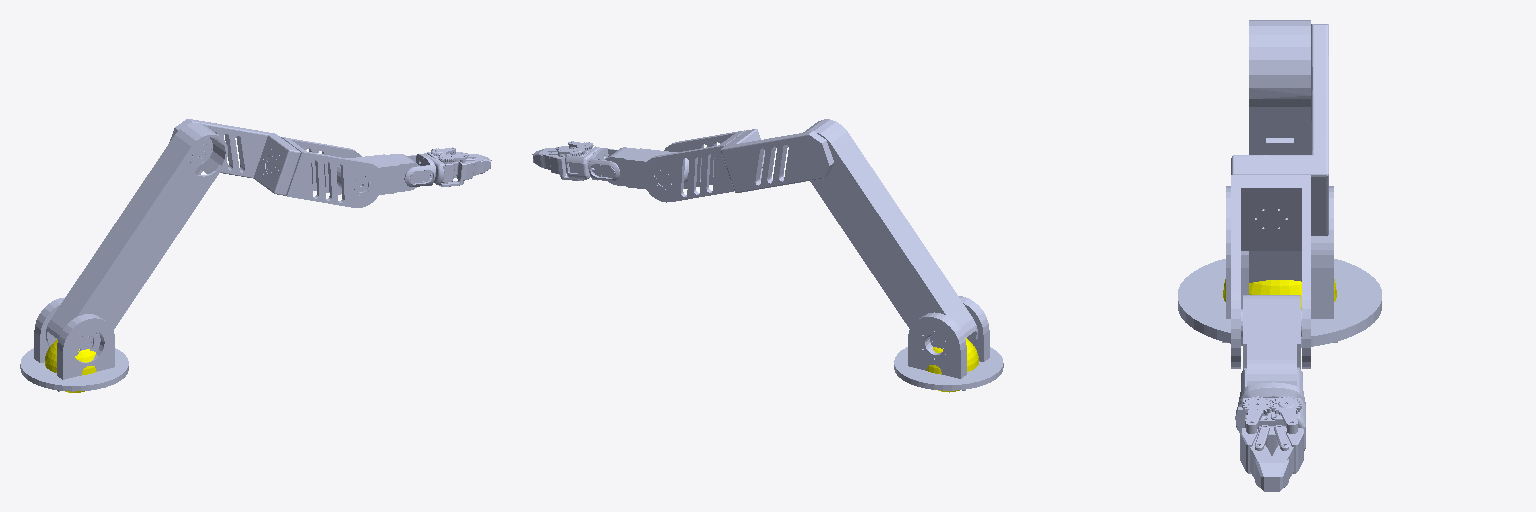
The robot description file, URDF, robot "arm2.SLDASM":
<robot name="arm2.SLDASM">
  <link name="ground">
    <inertial>
      <origin xyz="2.139E-05 0.0017648 0.02168" rpy="0 0 0" />
      <mass value="0" />
      <inertia ixx="0" ixy="0" ixz="0" iyy="0" iyz="0" izz="0" />
    </inertial>
    <visual>
      <origin xyz="0 0 0" rpy="0 0 0" />
    </visual>
  </link>
  <link name="base_link">
    <inertial>
      <origin xyz="2.139E-05 0.0017648 0.02168" rpy="0 0 0" />
      <mass value="0.53613" />
      <inertia ixx="0.0015219" ixy="2.0239E-08" ixz="4.0918E-07" iyy="0.0013521" iyz="-2.6796E-05" izz="0.0017242" />
    </inertial>
    <visual>
      <origin xyz="0 0 0" rpy="0 0 0" />
      <geometry>
        <mesh filename="base_link.stl" />
      </geometry>
      <material name="">
        <color rgba="0.79216 0.81961 0.93333 1" />
      </material>
    </visual>
    <collision>
      <origin xyz="0 0 0" rpy="0 0 0" />
      <geometry>
        <mesh filename="base_link.stl" />
      </geometry>
    </collision>
  </link>
  <joint name="joint5" type="revolute">
    <origin xyz="0 0 0" rpy="0 0 0" />
    <parent link="ground" />
    <child link="base_link" />
    <axis xyz="0 0 1" />
    <limit lower="-4.26" upper="4.26" effort="0" velocity="12.56" />
  </joint>
  <link name="arm_link1">
    <inertial>
      <origin xyz="0.1773 -0.00039417 0.048666" rpy="0 0 0" />
      <mass value="0.5946" />
      <inertia ixx="0.00069027" ixy="3.3446E-05" ixz="-0.00014462" iyy="0.010726" iyz="-2.7335E-07" izz="0.010908" />
    </inertial>
    <visual>
      <origin xyz="0 0 0" rpy="0 0 0" />
      <geometry>
        <mesh filename="arm_link1.stl" />
      </geometry>
      <material name="">
        <color rgba="0.79216 0.81961 0.93333 1" />
      </material>
    </visual>
    <collision>
      <origin xyz="0 0 0" rpy="0 0 0" />
      <geometry>
        <mesh filename="arm_link1.stl" />
      </geometry>
    </collision>
  </link>
  <joint name="joint0" type="revolute">
    <origin xyz="0 -0.0475 0.05" rpy="-1.5708 -0.87031 0" />
    <parent link="base_link" />
    <child link="arm_link1" />
    <axis xyz="0 0 1" />
    <limit lower="-4.26" upper="4.26" effort="0" velocity="12.56" />
  </joint>
  <link name="arm_link2">
    <inertial>
      <origin xyz="0.093606 -0.00013859 -0.0074875" rpy="0 0 0" />
      <mass value="0.34589" />
      <inertia ixx="0.00038206" ixy="4.4132E-06" ixz="0.00026239" iyy="0.0017256" iyz="7.3042E-07" izz="0.0017199" />
    </inertial>
    <visual>
      <origin xyz="0 0 0" rpy="0 0 0" />
      <geometry>
        <mesh filename="arm_link2.stl" />
      </geometry>
      <material name="">
        <color rgba="0.79216 0.81961 0.93333 1" />
      </material>
    </visual>
    <collision>
      <origin xyz="0 0 0" rpy="0 0 0" />
      <geometry>
        <mesh filename="arm_link2.stl" />
      </geometry>
    </collision>
  </link>
  <joint name="joint1" type="revolute">
    <origin xyz="0.37 0 0.075" rpy="0 0 1.2473" />
    <parent link="arm_link1" />
    <child link="arm_link2" />
    <axis xyz="0 0 1" />
    <limit lower="-2.36" upper="2.36" effort="0" velocity="12.56" />
  </joint>
  <link name="wrist1">
    <inertial>
      <origin xyz="3.4694E-17 -0.00038502 0.043333" rpy="0 0 0" />
      <mass value="0.25858" />
      <inertia ixx="0.0010491" ixy="-3.8964E-19" ixz="-3.3881E-20" iyy="0.0010979" iyz="7.1638E-06" izz="0.00031674" />
    </inertial>
    <visual>
      <origin xyz="0 0 0" rpy="0 0 0" />
      <geometry>
        <mesh filename="wrist1.stl" />
      </geometry>
      <material name="">
        <color rgba="0.79216 0.81961 0.93333 1" />
      </material>
    </visual>
    <collision>
      <origin xyz="0 0 0" rpy="0 0 0" />
      <geometry>
        <mesh filename="wrist1.stl" />
      </geometry>
    </collision>
  </link>
  <joint name="joint2" type="revolute">
    <origin xyz="0.185 0 -0.035" rpy="0 1.5708 0" />
    <parent link="arm_link2" />
    <child link="wrist1" />
    <axis xyz="0 0 1" />
    <limit lower="-3.14" upper="3.14" effort="0" velocity="12.56" />
  </joint>
  <link name="hand_link">
    <inertial>
      <origin xyz="0.047132 1.3323E-15 -0.024979" rpy="0 0 0" />
      <mass value="0.34435" />
      <inertia ixx="0.00013834" ixy="-2.3717E-20" ixz="3.3466E-07" iyy="0.00063583" iyz="-1.3553E-20" izz="0.00062808" />
    </inertial>
    <visual>
      <origin xyz="0 0 0" rpy="0 0 0" />
      <geometry>
        <mesh filename="hand_link.stl" />
      </geometry>
      <material name="">
        <color rgba="0.79216 0.81961 0.93333 1" />
      </material>
    </visual>
    <collision>
      <origin xyz="0 0 0" rpy="0 0 0" />
      <geometry>
        <mesh filename="hand_link.stl" />
      </geometry>
    </collision>
  </link>
  <joint name="joint3" type="revolute">
    <origin xyz="-0.0255 0 0.125" rpy="1.5708 -1.3193 -1.5708" />
    <parent link="wrist1" />
    <child link="hand_link" />
    <axis xyz="0 0 1" />
    <limit lower="-2.36" upper="2.36" effort="0" velocity="7" />
  </joint>
  <link name="finger_link">
    <inertial>
      <origin xyz="0.077446 0.00022018 -0.023819" rpy="0 0 0" />
      <mass value="0.17519" />
      <inertia ixx="3.4998E-05" ixy="7.1554E-08" ixz="1.0133E-06" iyy="5.8966E-05" iyz="-5.8825E-10" izz="4.8699E-05" />
    </inertial>
    <visual>
      <origin xyz="0 0 0" rpy="0 0 0" />
      <geometry>
        <mesh filename="finger_link.stl" />
      </geometry>
      <material name="">
        <color rgba="0.79216 0.81961 0.93333 1" />
      </material>
    </visual>
    <collision>
      <origin xyz="0 0 0" rpy="0 0 0" />
      <geometry>
        <mesh filename="finger_link.stl" />
      </geometry>
    </collision>
  </link>
  <joint name="joint4" type="revolute">
    <origin xyz="0.1068 0 -0.047" rpy="3.1416 0 0" />
    <parent link="hand_link" />
    <child link="finger_link" />
    <axis xyz="0 0 1" />
    <limit lower="-2.36" upper="2.36" effort="0" velocity="7" />
  </joint>

    <link name="target">
      <inertial>
        <origin xyz="2.139E-05 0.0017648 0.02168" rpy="0 0 0" />
        <mass value="1" />
        <inertia ixx="1" ixy="0" ixz="0" iyy="1" iyz="0" izz="1" />
      </inertial>
      <visual>
        <geometry>
          <sphere radius="0.05"/>
        </geometry>
        <material name="yellow">
          <color rgba="1 1 0 1"/>
        </material>
      </visual>
    </link>
    <joint name="target_joint" type="floating">
      <parent link="ground" />
      <child link="target" />
      <origin xyz="0 0 0" rpy="0 0 0" />
    </joint>
</robot>

--- Render facts (derived) ---
3 views of the same robot in one strip: view 1: azimuth 30°, elevation 25°; view 2: azimuth 150°, elevation 25°; view 3: azimuth 270°, elevation 25° (orthographic).
Model arm2.SLDASM with 8 links and 7 joints (6 revolute, 1 floating), rooted at ground, posed all joints at 0.
Links seen in each view (by area): view 1: arm_link1, base_link, wrist1, arm_link2, finger_link, hand_link, target; view 2: arm_link1, base_link, arm_link2, wrist1, finger_link, hand_link; view 3: arm_link1, base_link, wrist1, finger_link, arm_link2, hand_link, target.
Link boxes in pixels (left/top/right/bottom): arm_link1: left=46, top=123, right=227, bottom=351; base_link: left=20, top=298, right=128, bottom=391; wrist1: left=266, top=137, right=382, bottom=207; arm_link2: left=169, top=119, right=300, bottom=195; finger_link: left=404, top=147, right=491, bottom=186; hand_link: left=337, top=154, right=419, bottom=194; target: left=45, top=339, right=96, bottom=392; arm_link1: left=803, top=119, right=977, bottom=348; base_link: left=894, top=296, right=1003, bottom=390; arm_link2: left=721, top=129, right=833, bottom=192; wrist1: left=642, top=130, right=744, bottom=202; finger_link: left=532, top=141, right=619, bottom=181; hand_link: left=605, top=147, right=688, bottom=189; arm_link1: left=1249, top=20, right=1310, bottom=282; base_link: left=1178, top=186, right=1381, bottom=347; wrist1: left=1231, top=175, right=1310, bottom=368; finger_link: left=1235, top=367, right=1305, bottom=491; arm_link2: left=1231, top=24, right=1328, bottom=235; hand_link: left=1241, top=295, right=1301, bottom=385; target: left=1223, top=279, right=1336, bottom=308.
Size in the robot's own frame: 0.8803 by 0.1794 by 0.4243 metres.
Meshes: 6 distinct files referenced, 6 mesh visuals loaded (6 binary STL).
